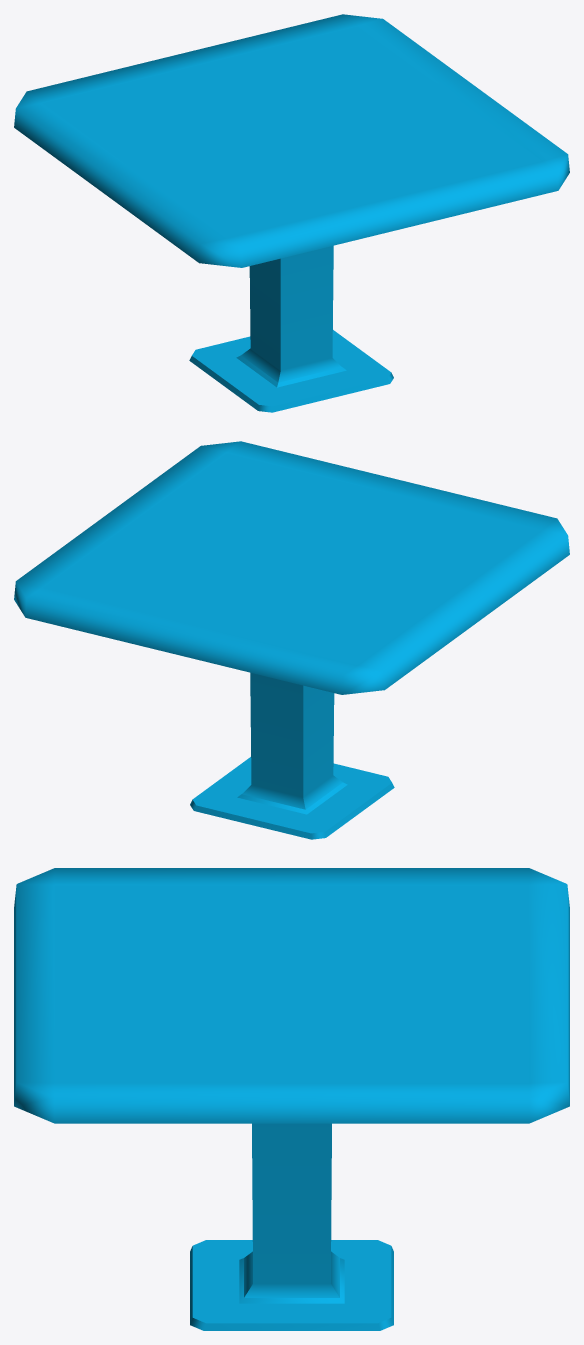
The model's file is Restaurant_Table_01_Lod1.fbx.
3 renders of one model, top to bottom at view 1: azimuth 30°, elevation 25°; view 2: azimuth 150°, elevation 25°; view 3: azimuth 270°, elevation 25°, orthographic. The views are drawn at different scales.
Parts seen in each view (by area): view 1: Restaurant_Table_01_Lod1; view 2: Restaurant_Table_01_Lod1; view 3: Restaurant_Table_01_Lod1.
Boxes of the visible parts, x1,y1,x2,y2 form: Restaurant_Table_01_Lod1: [14, 14, 569, 412]; Restaurant_Table_01_Lod1: [14, 441, 569, 839]; Restaurant_Table_01_Lod1: [14, 868, 569, 1330].
Size of the model in its own units: 120 by 73.76 by 122.
